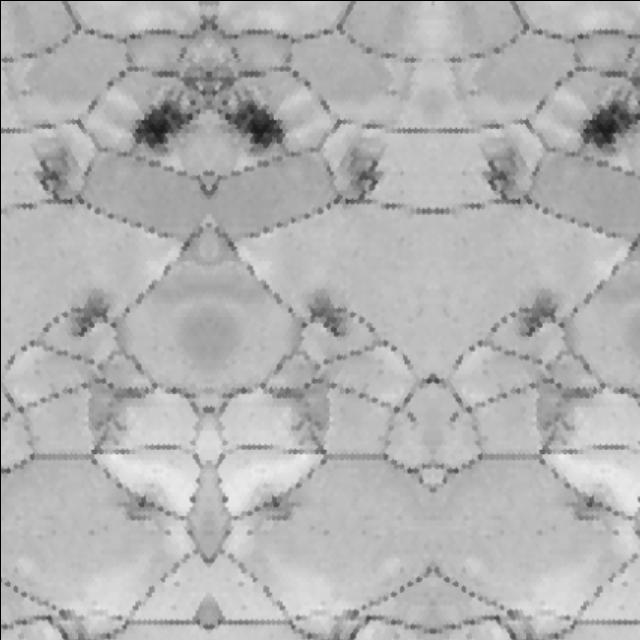good_void: (126, 63, 209, 160), (209, 63, 291, 160), (575, 65, 640, 160), (342, 145, 392, 203), (474, 145, 524, 203), (26, 145, 75, 203), (301, 286, 349, 342), (517, 286, 565, 342), (68, 286, 116, 342), (256, 479, 307, 526), (559, 479, 610, 526), (111, 479, 161, 526), (406, 409, 418, 423), (448, 409, 460, 423), (0, 409, 11, 423), (246, 527, 255, 538), (611, 527, 620, 538), (162, 527, 171, 538), (11, 168, 18, 177), (400, 168, 406, 177), (460, 168, 466, 177)
